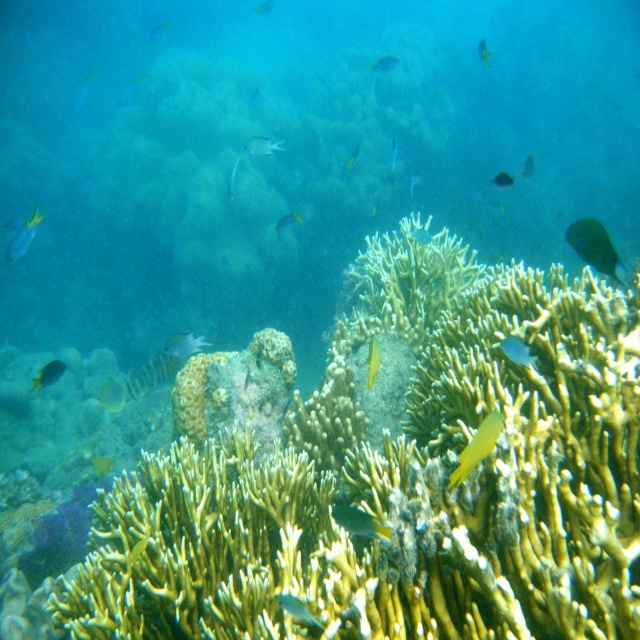Fish: (0, 0, 627, 640)
